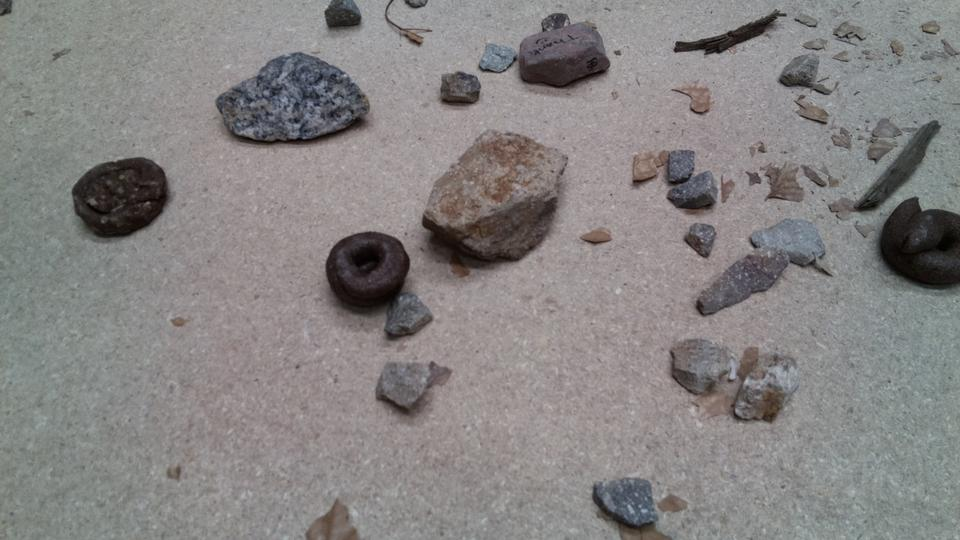poop: (70, 155, 171, 240), (877, 196, 960, 289), (323, 230, 412, 314)
